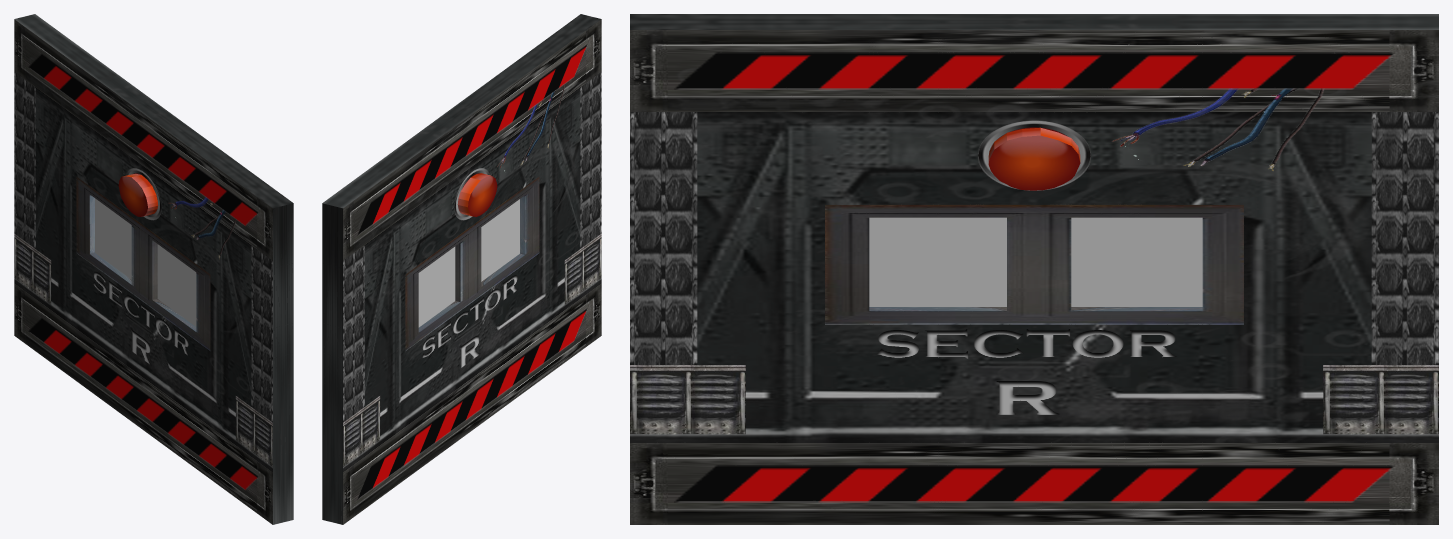
The model's file is door_red.glb.
The picture shows the model from 3 angles, left to right: view 1: azimuth 30°, elevation 25°; view 2: azimuth 150°, elevation 25°; view 3: azimuth 270°, elevation 25°; orthographic projection. The views are drawn at different scales.
Parts seen in each view (by area): view 1: Cube.001; view 2: Cube.001; view 3: Cube.001.
Part boxes in pixels (x1,y1,x2,y2): Cube.001: (14, 14, 293, 524); Cube.001: (322, 14, 601, 524); Cube.001: (630, 14, 1438, 524).
Size of the model in its own units: 0.919 by 6.72 by 9.95.
2 materials, 1 textured.
